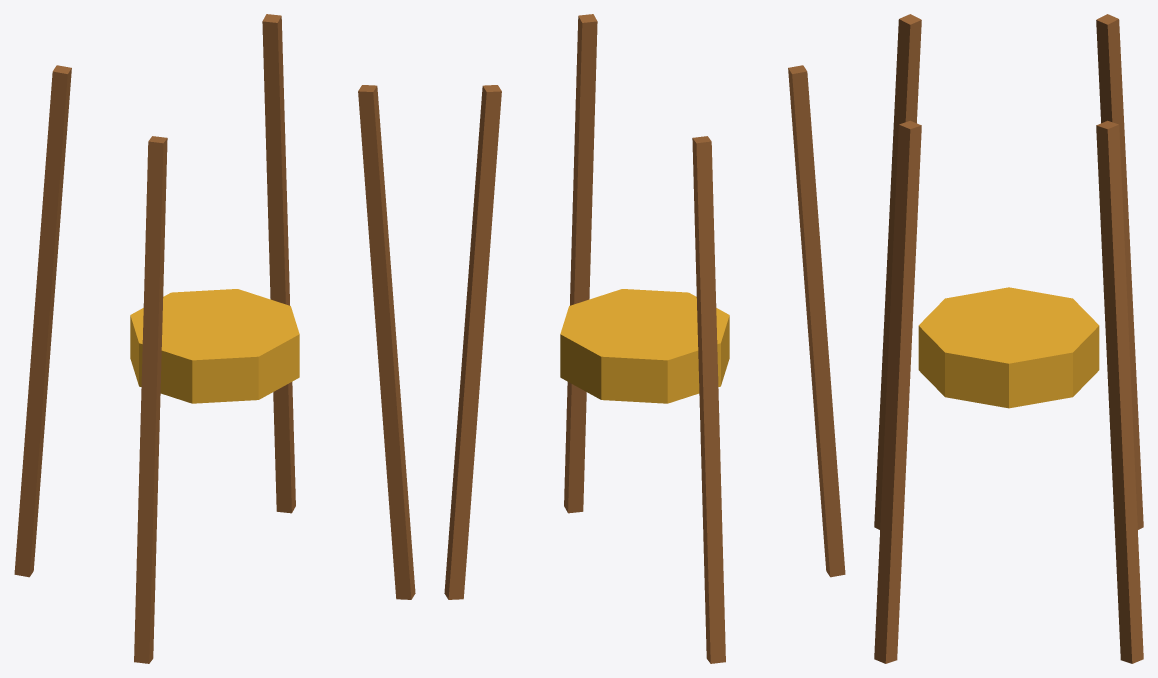
3 views of the same model, side by side, from view 1: azimuth 30°, elevation 25°; view 2: azimuth 150°, elevation 25°; view 3: azimuth 270°, elevation 25° (orthographic). The views are drawn at different scales.
Visible parts, largest first — view 1: 吊索与吊架.001; view 2: 吊索与吊架.001; view 3: 吊索与吊架.001.
Part boxes in pixels (bbox=[...]): 吊索与吊架.001: bbox=[14, 14, 415, 663]; 吊索与吊架.001: bbox=[444, 14, 845, 663]; 吊索与吊架.001: bbox=[874, 14, 1143, 663].
Bounding box in the file's own units: 0.204 × 0.3508 × 0.164.
